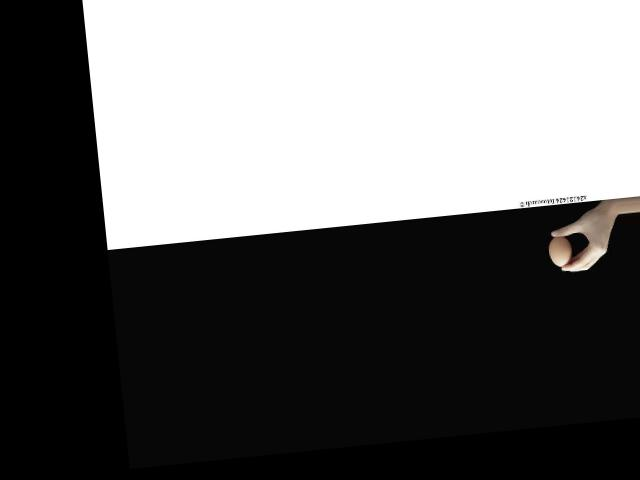egg: (547, 235, 572, 268)
